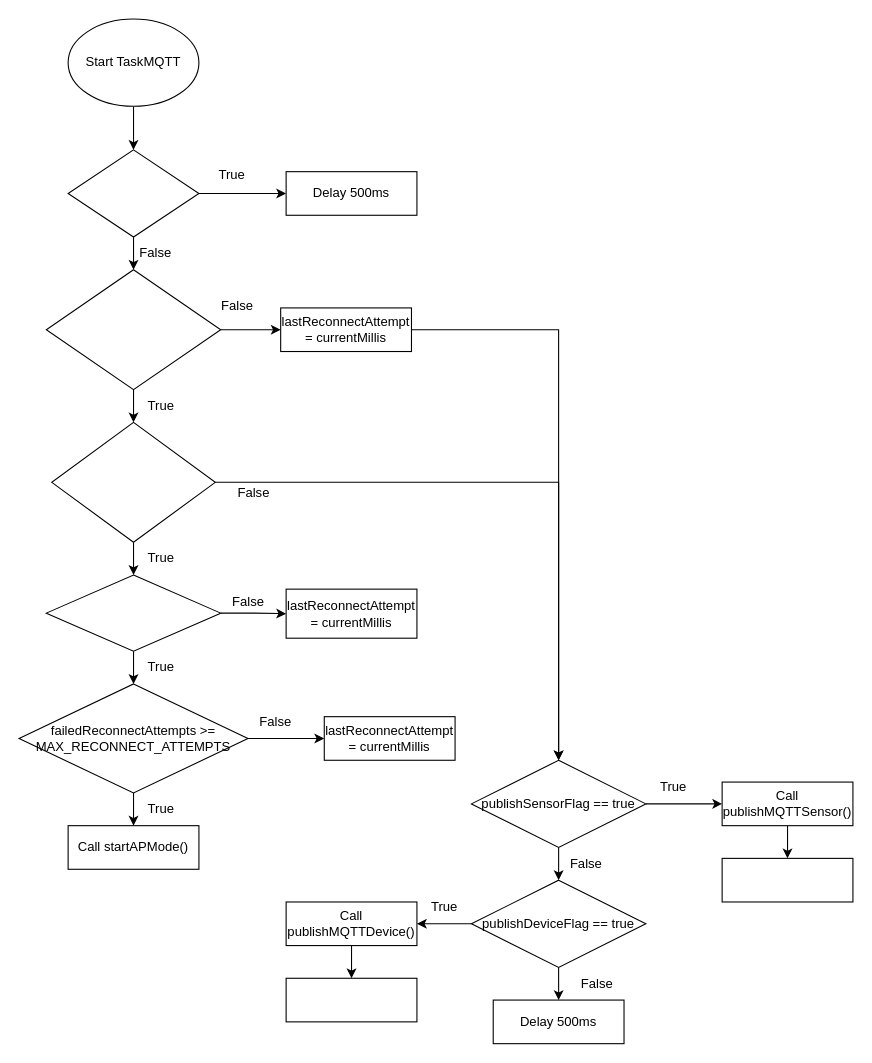
This 872x1063 diagram has some shape labels left out. Each missing label, with the centre of its shape:
"currentMillis - lastReconnectAttempt >= reconnectInterval" belongs at pixel 133 481.
"isAPMode == true" belongs at pixel 133 193.
"publishDeviceFlag = false" belongs at pixel 351 999.
"publishSensorFlag = false" belongs at pixel 787 879.
"reconnect() not successful" belongs at pixel 133 612.
"WiFi.status() != WL_CONNECTED || !client.connected()" belongs at pixel 133 329.
